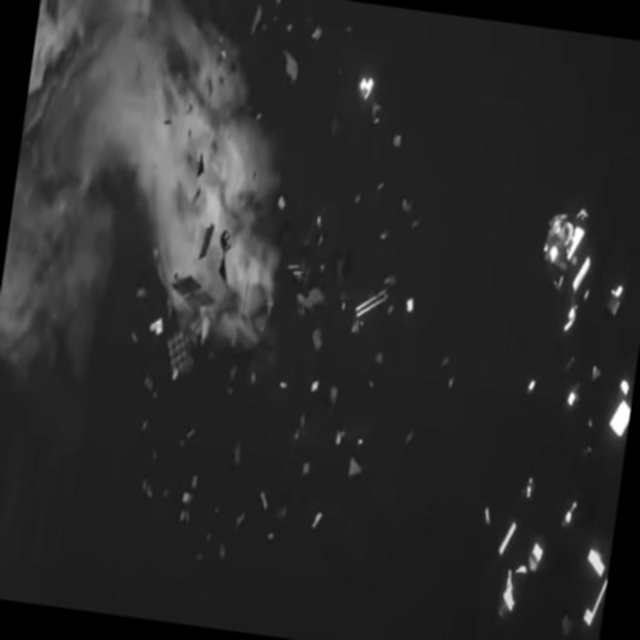large_debris: (531, 189, 605, 337), (348, 258, 404, 342), (592, 281, 637, 384), (164, 250, 224, 321), (160, 318, 198, 397), (511, 531, 550, 592), (579, 568, 609, 632), (496, 564, 523, 621), (213, 226, 235, 288), (603, 273, 630, 323), (194, 219, 220, 267), (583, 537, 610, 583), (607, 397, 632, 442), (495, 518, 518, 564), (279, 45, 304, 87), (353, 68, 380, 104), (564, 376, 587, 417), (247, 0, 267, 44), (559, 497, 580, 535), (519, 470, 542, 503), (342, 453, 367, 482), (145, 313, 167, 343), (193, 149, 208, 189), (309, 20, 326, 50), (308, 509, 325, 534), (616, 375, 633, 400), (389, 128, 404, 154), (328, 381, 341, 410), (300, 457, 315, 482), (403, 295, 419, 317), (274, 191, 289, 214), (307, 376, 321, 400), (590, 363, 604, 384), (526, 375, 538, 395)
